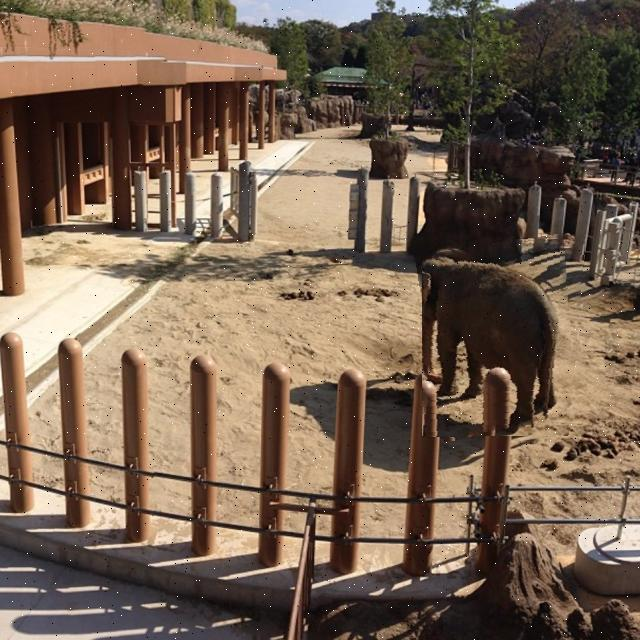elephant: (422, 239, 586, 437)
